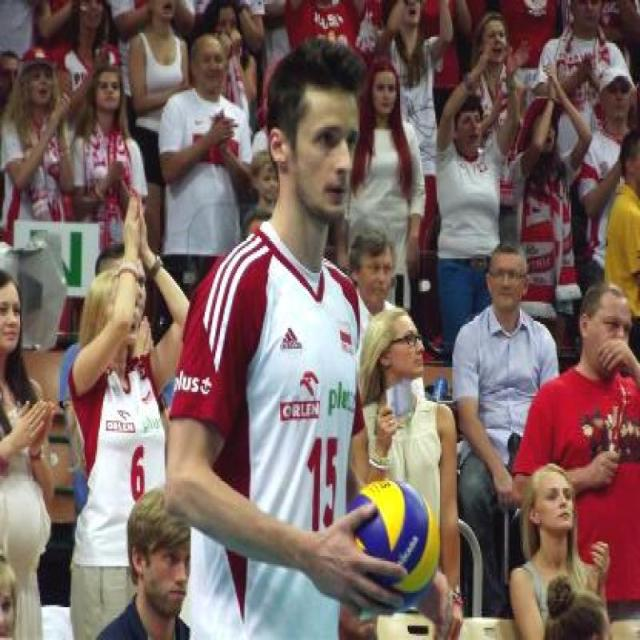volleyball: (344, 478, 442, 612)
